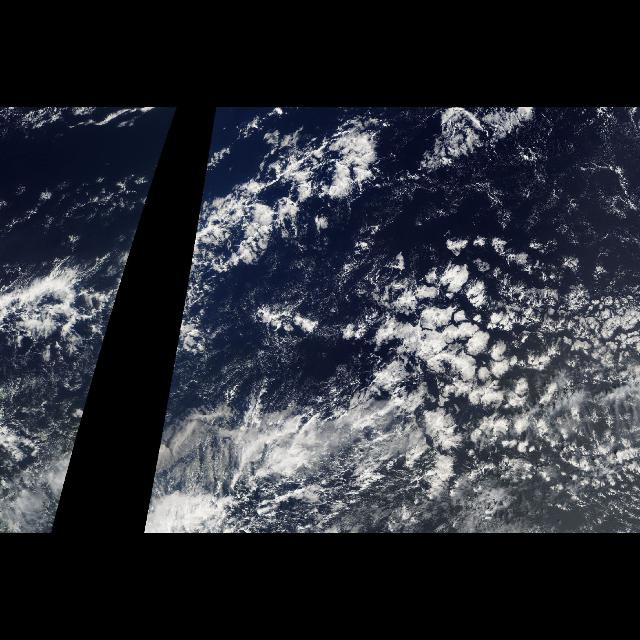Fish: (173, 124, 375, 350), (7, 124, 174, 350)
Flower: (368, 230, 636, 490)
Sugar: (400, 113, 640, 284)
